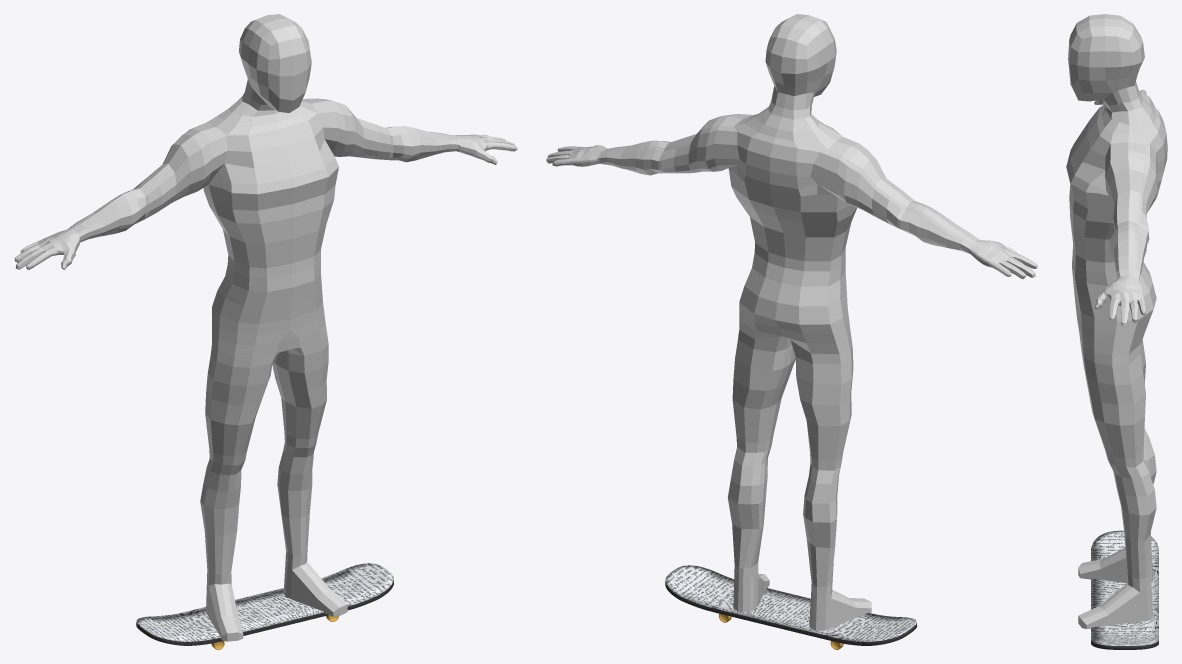
3 views of the same model, side by side, from view 1: azimuth 30°, elevation 25°; view 2: azimuth 150°, elevation 25°; view 3: azimuth 270°, elevation 25° (orthographic). The views are drawn at different scales.
Parts seen in each view (by area): view 1: Plane, Plane.001; view 2: Plane, Plane.001; view 3: Plane, Plane.001.
Part boxes in pixels (bbox=[...]): Plane: bbox=[14, 14, 517, 641]; Plane.001: bbox=[136, 563, 393, 645]; Plane: bbox=[546, 14, 1037, 630]; Plane.001: bbox=[665, 565, 916, 645]; Plane: bbox=[1066, 14, 1167, 629]; Plane.001: bbox=[1091, 530, 1158, 649].
Size of the model in its own units: 1.75 by 2.06 by 0.3169.
Materials: 4 (1 with a texture image).
